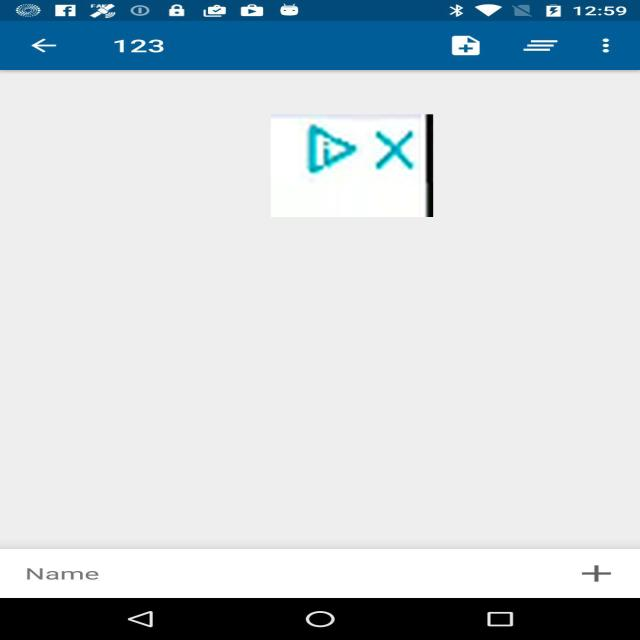sneaking: (271, 114, 433, 217)
